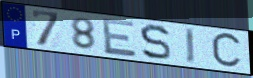7: (31, 8, 61, 48)
8: (69, 16, 98, 51)
C: (210, 31, 244, 70)
E: (100, 16, 139, 58)
I: (183, 26, 197, 66)
S: (138, 23, 173, 62)
